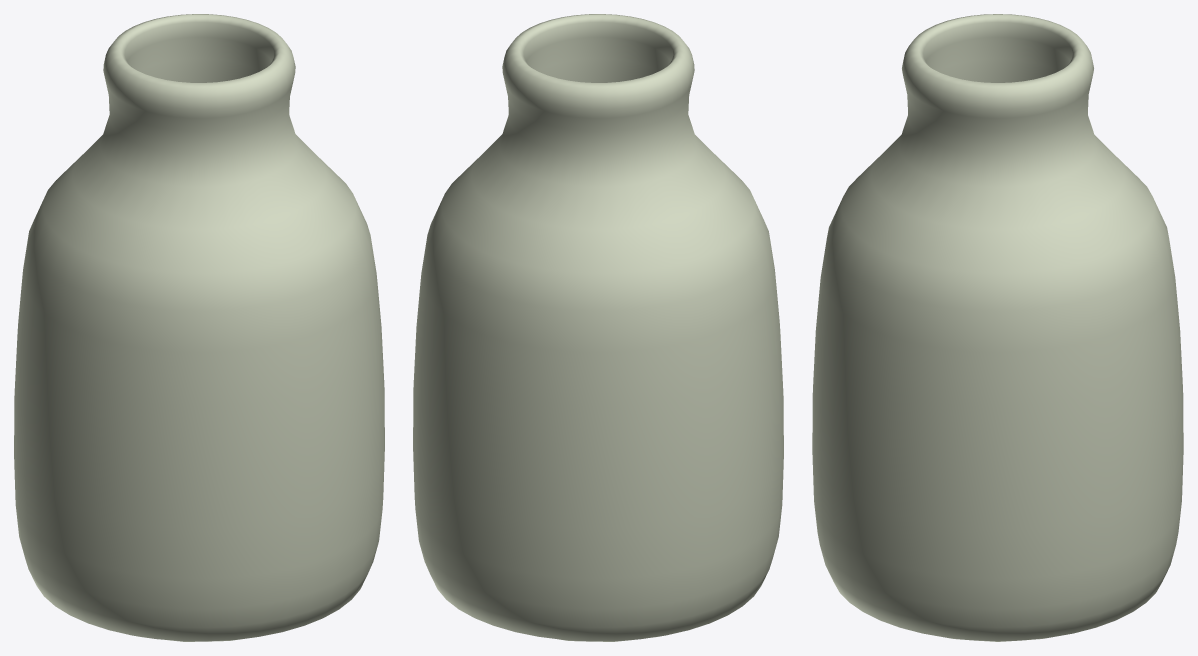
The model's file is fbx_jar_v2.fbx.
3 renders of one model, left to right at view 1: azimuth 30°, elevation 25°; view 2: azimuth 150°, elevation 25°; view 3: azimuth 270°, elevation 25°, orthographic.
Visible parts, largest first — view 1: pPipe2; view 2: pPipe2; view 3: pPipe2.
Part boxes in pixels (bbox=[...]): pPipe2: bbox=[14, 14, 384, 641]; pPipe2: bbox=[413, 14, 783, 641]; pPipe2: bbox=[812, 14, 1183, 641].
Size of the model in its own units: 11.56 by 18.46 by 11.56.
